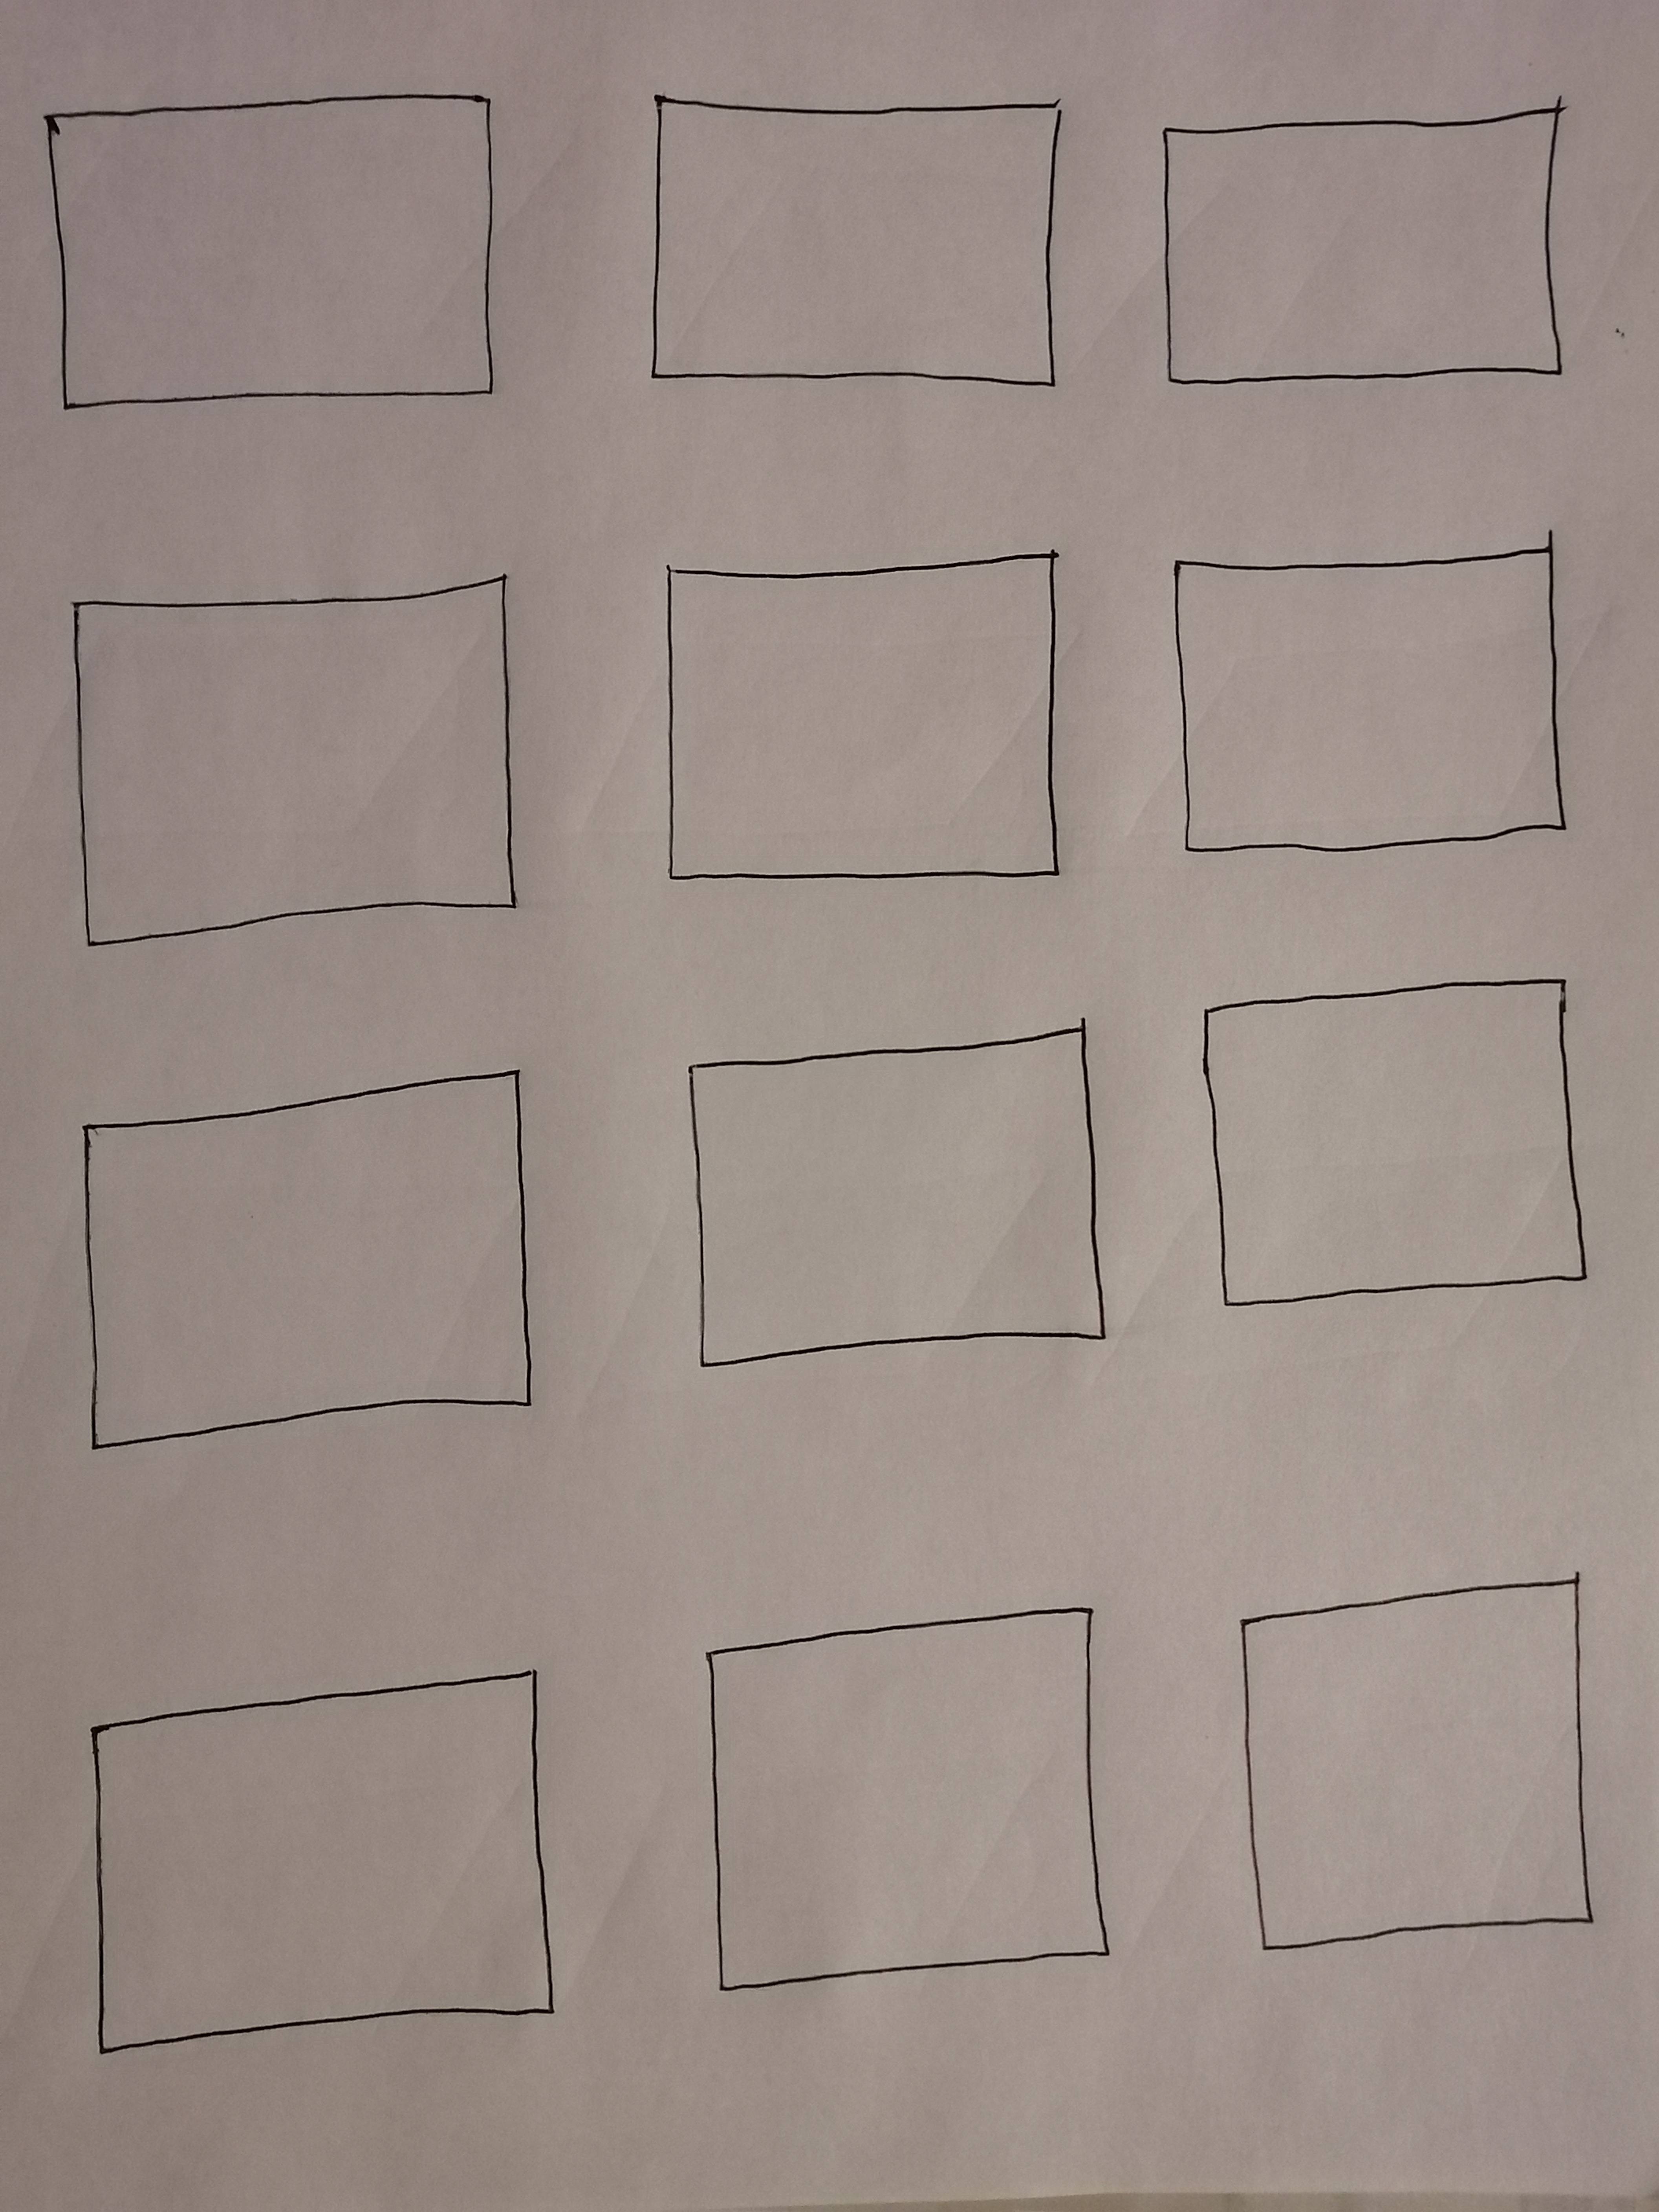process: (52, 1648, 596, 2102), (671, 1578, 1171, 2048), (59, 1055, 579, 1474), (56, 559, 538, 960), (613, 52, 1103, 442), (660, 998, 1131, 1402), (24, 80, 525, 446), (1134, 512, 1607, 899), (641, 521, 1096, 920), (1216, 1548, 1631, 1980), (1138, 70, 1600, 446), (1182, 960, 1617, 1327)
